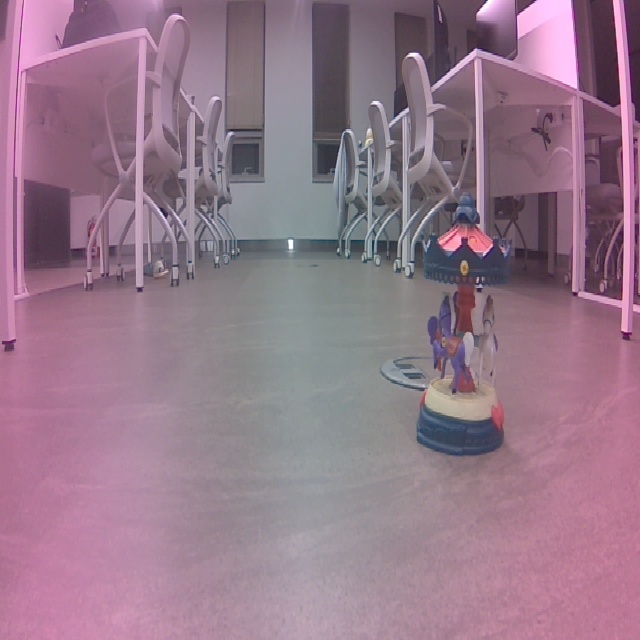목적지: (523, 174, 638, 442)
